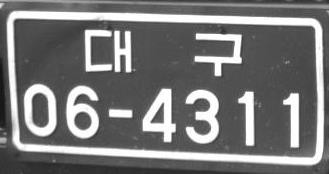0: (23, 82, 57, 137)
1: (232, 90, 263, 146), (278, 92, 307, 148)
3: (185, 88, 219, 144)
4: (142, 88, 176, 143)
6: (65, 83, 99, 140)
대구_D: (84, 28, 242, 77)
